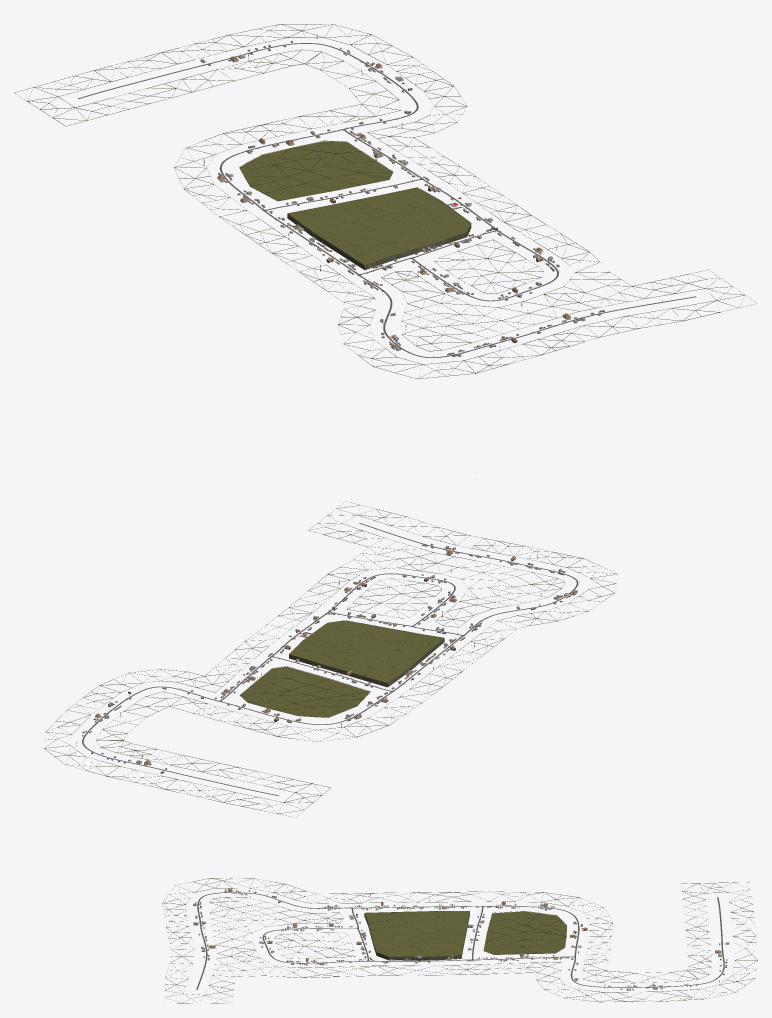
Rendered from track drag reskin kuli 2.fbx.
The picture shows the model from 3 angles, top to bottom: view 1: azimuth 30°, elevation 25°; view 2: azimuth 150°, elevation 25°; view 3: azimuth 270°, elevation 25°; orthographic projection. The views are drawn at different scales.
Parts seen in each view (by area): view 1: Plane, _MeshSplit_kota_01_2.002, _MeshSplit_kota_01_72; view 2: Plane, _MeshSplit_kota_01_2.002, _MeshSplit_kota_01_72; view 3: Plane, _MeshSplit_kota_01_2.002, _MeshSplit_kota_01_72.
Boxes of the visible parts, <box> form: Plane: <box>287,187,471,270</box>; _MeshSplit_kota_01_2.002: <box>239,141,392,201</box>; _MeshSplit_kota_01_72: <box>78,43,695,357</box>; Plane: <box>289,620,444,687</box>; _MeshSplit_kota_01_2.002: <box>240,666,370,717</box>; _MeshSplit_kota_01_72: <box>82,523,578,795</box>; Plane: <box>364,911,469,960</box>; _MeshSplit_kota_01_2.002: <box>483,911,566,954</box>; _MeshSplit_kota_01_72: <box>196,892,724,989</box>.
Bounding box in the file's own units: 39607 × 999 × 79123.
21 materials, 21 textured.
